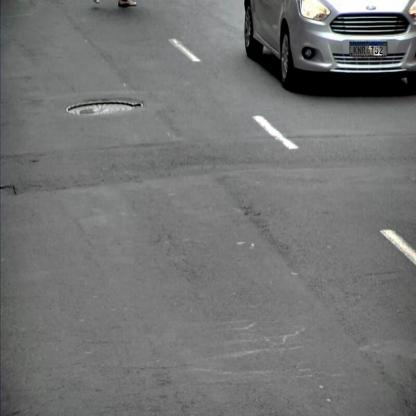PlacaM: (350, 42, 388, 56)
